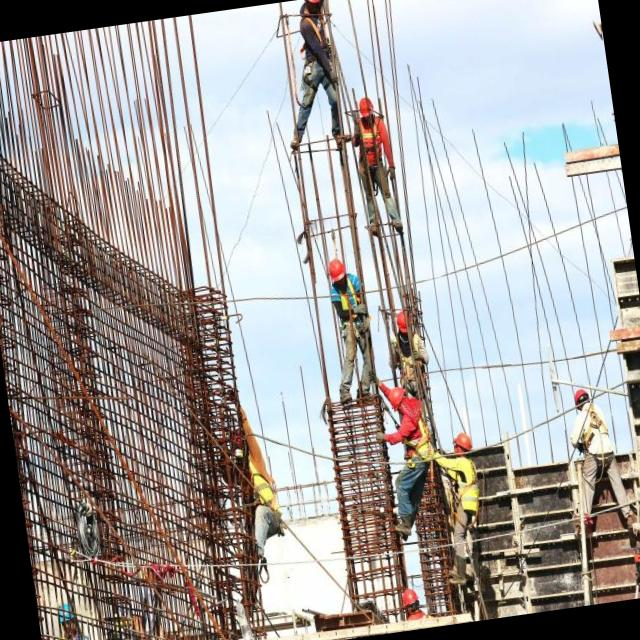Gloves: (350, 302, 369, 318), (366, 364, 379, 386), (328, 66, 342, 86), (412, 346, 425, 363), (386, 160, 398, 178), (374, 432, 386, 444)
Helmet: (570, 382, 598, 412), (328, 257, 349, 285), (395, 306, 413, 336), (388, 385, 404, 409), (400, 588, 418, 608), (358, 98, 374, 119), (458, 431, 474, 452)
